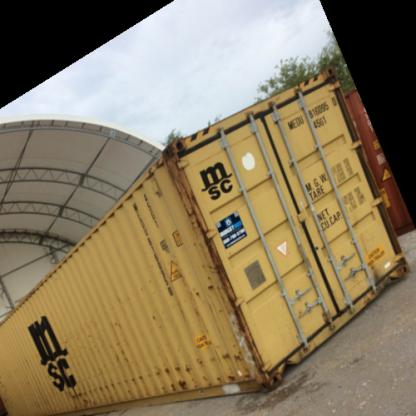Damage: (64, 348, 244, 398), (160, 136, 220, 280), (207, 272, 266, 383)
